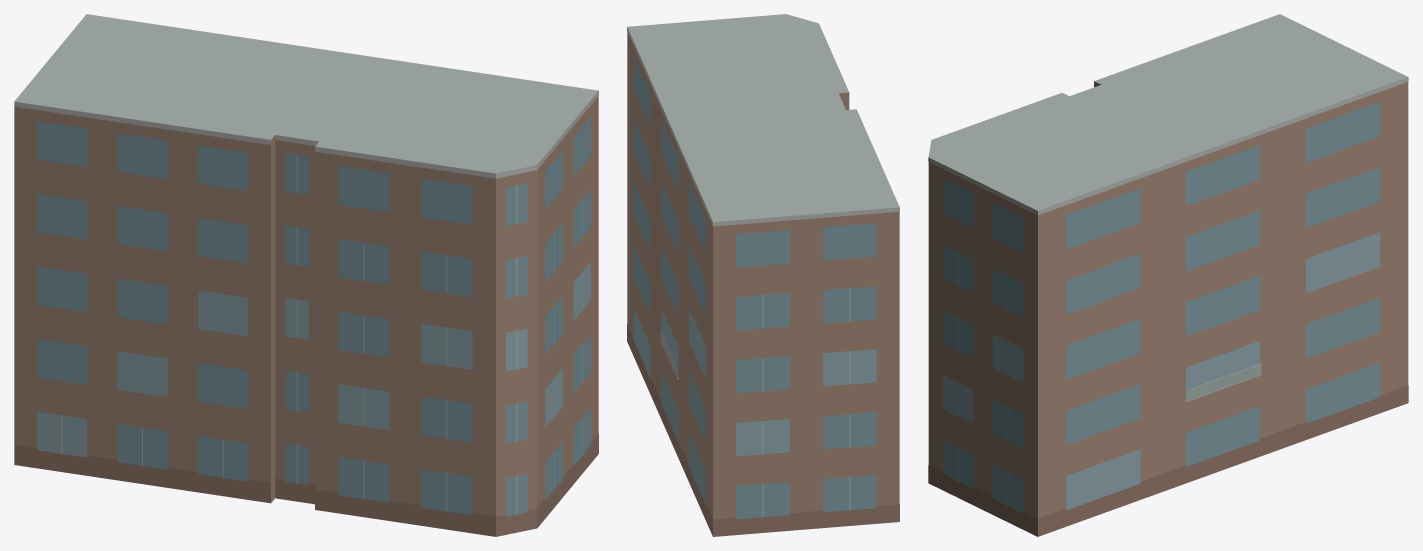
The model's file is survey-upis-32637776.glb.
The picture shows the model from 3 angles, left to right: view 1: azimuth 30°, elevation 25°; view 2: azimuth 150°, elevation 25°; view 3: azimuth 270°, elevation 25°; orthographic projection. The views are drawn at different scales.
Visible parts, largest first — view 1: survey-upis-32637776.tmp; view 2: survey-upis-32637776.tmp; view 3: survey-upis-32637776.tmp.
Boxes of the visible parts, <box> form: survey-upis-32637776.tmp: <box>14,14,598,536</box>; survey-upis-32637776.tmp: <box>627,14,899,536</box>; survey-upis-32637776.tmp: <box>928,14,1408,536</box>.
Size of the model in its own units: 22.68 by 17.5 by 23.36.
